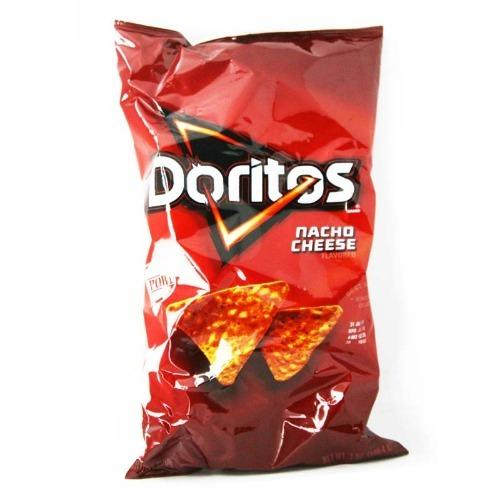snack: (114, 18, 410, 482)
